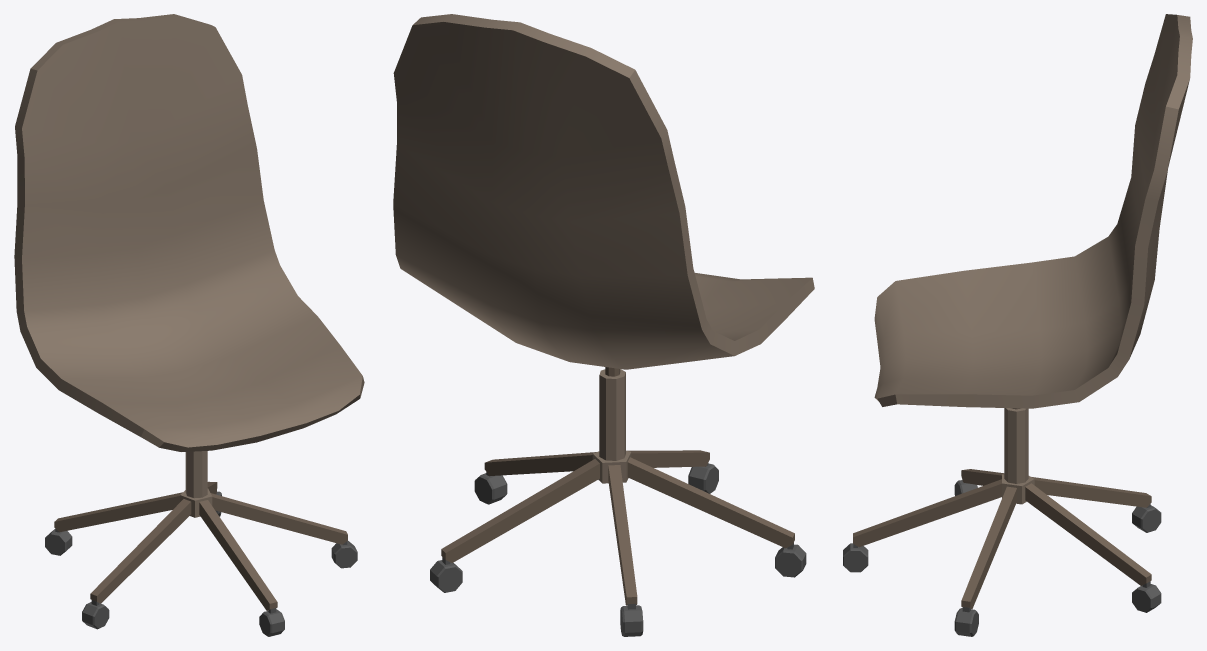
File: PC_Chair1_C3.fbx
3 views of the same model, side by side, from view 1: azimuth 30°, elevation 25°; view 2: azimuth 150°, elevation 25°; view 3: azimuth 270°, elevation 25° (orthographic). The views are drawn at different scales.
Visible parts, largest first — view 1: PC_Chair1_C3; view 2: PC_Chair1_C3; view 3: PC_Chair1_C3.
Boxes of the visible parts, box(x1,y1,x2,y2) form: PC_Chair1_C3: box(14, 14, 364, 636); PC_Chair1_C3: box(393, 14, 814, 636); PC_Chair1_C3: box(843, 14, 1192, 636).
Bounding box in the file's own units: 64.14 × 113 × 67.1.
